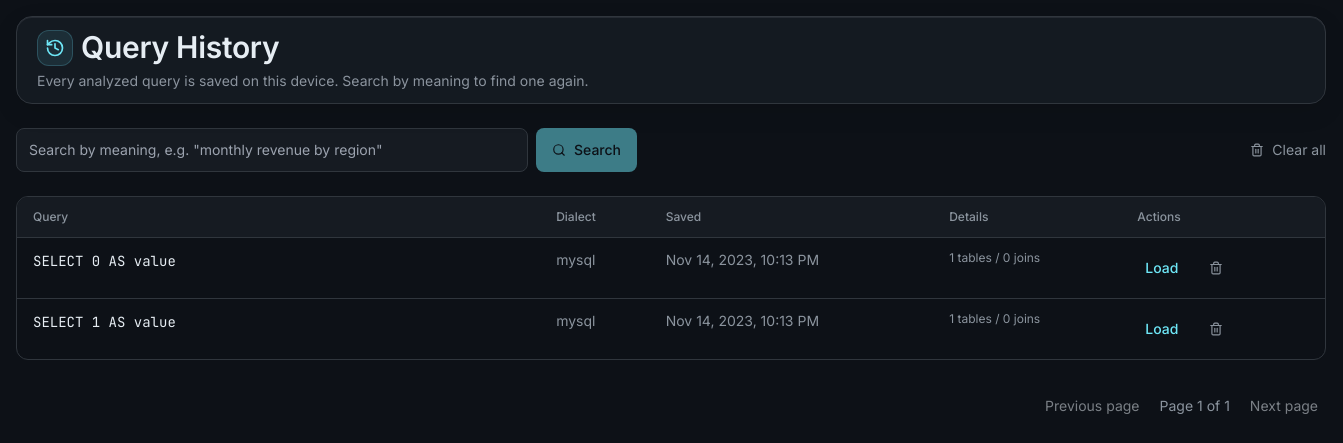
Scenario: Query history page › ranks saved entries when semantic search succeeds
Expected: the text "SELECT 0 AS value" is shown, [33, 252, 176, 270]
Type "meaning" into the search field at (272, 150), box [16, 128, 528, 172]
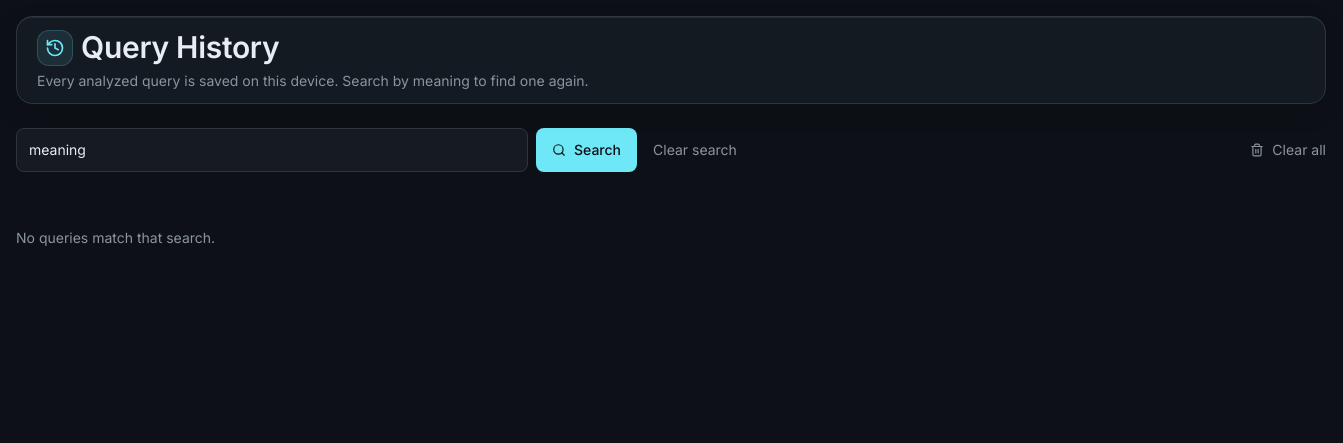
Click the button "Search" at (586, 150), box [536, 128, 637, 172]
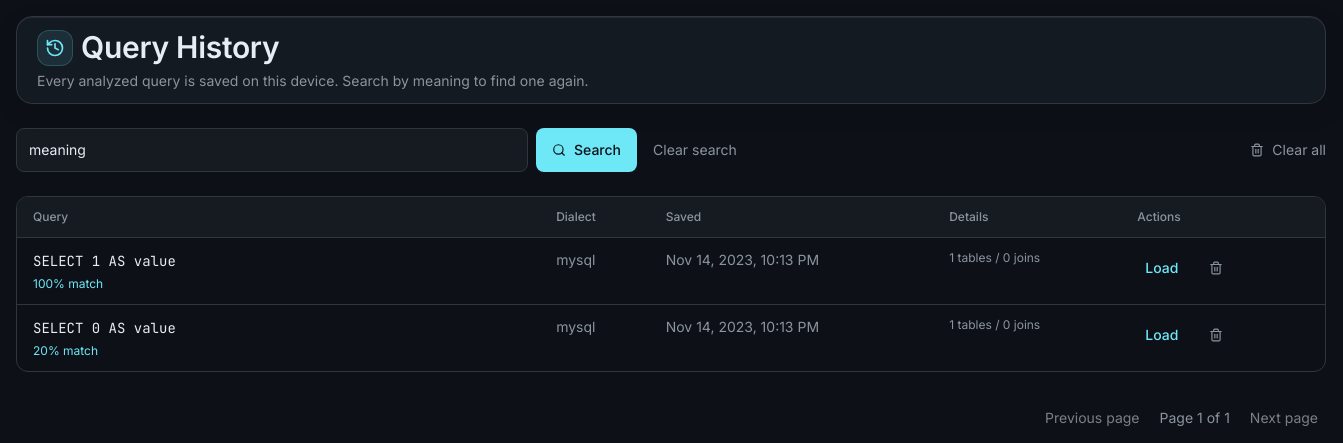
Now the text "100% match" is shown, box [33, 276, 103, 291]
Now the row that starts with "SELECT 1 AS value" is shown, box [33, 252, 176, 270]
Now the row that starts with "SELECT 0 AS value" is shown, box [33, 319, 176, 337]
